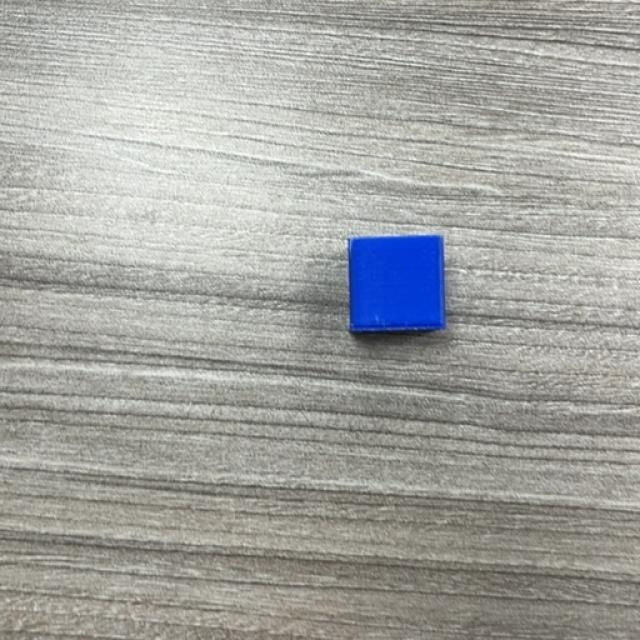Azul: (346, 235, 446, 335)
